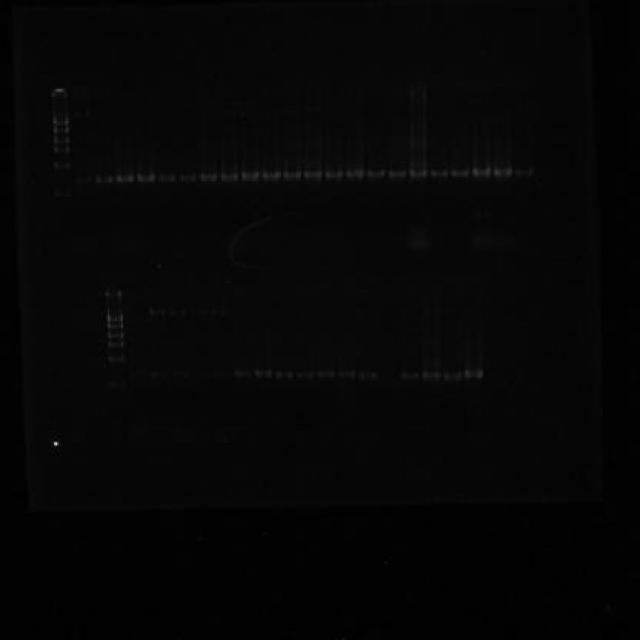B: (492, 167, 514, 178), (387, 168, 407, 180), (346, 168, 366, 180), (324, 168, 344, 180), (220, 169, 238, 182), (94, 173, 115, 184), (199, 170, 218, 182), (514, 167, 534, 178), (261, 170, 281, 181), (240, 170, 260, 181), (157, 172, 177, 183), (136, 172, 156, 183), (463, 368, 483, 379), (316, 369, 336, 380), (274, 369, 294, 380), (422, 369, 442, 380), (400, 370, 420, 381), (442, 370, 462, 381), (367, 168, 385, 180), (430, 168, 448, 180), (304, 168, 322, 180), (283, 169, 302, 180), (296, 370, 315, 381), (358, 370, 377, 381), (450, 168, 470, 178), (408, 168, 428, 178), (338, 369, 356, 380), (178, 172, 197, 182), (472, 168, 492, 177), (254, 368, 272, 378), (115, 174, 134, 183), (234, 370, 252, 378)
M: (46, 87, 74, 201), (100, 286, 129, 392)
P: (104, 312, 124, 322), (107, 380, 127, 389), (52, 161, 72, 170), (54, 144, 71, 154), (54, 190, 72, 199), (106, 355, 125, 363), (51, 118, 70, 126), (52, 126, 70, 134), (104, 322, 124, 329), (53, 136, 70, 144), (106, 341, 125, 348), (106, 332, 125, 339)
Pc: (50, 88, 70, 101), (104, 290, 125, 298)
